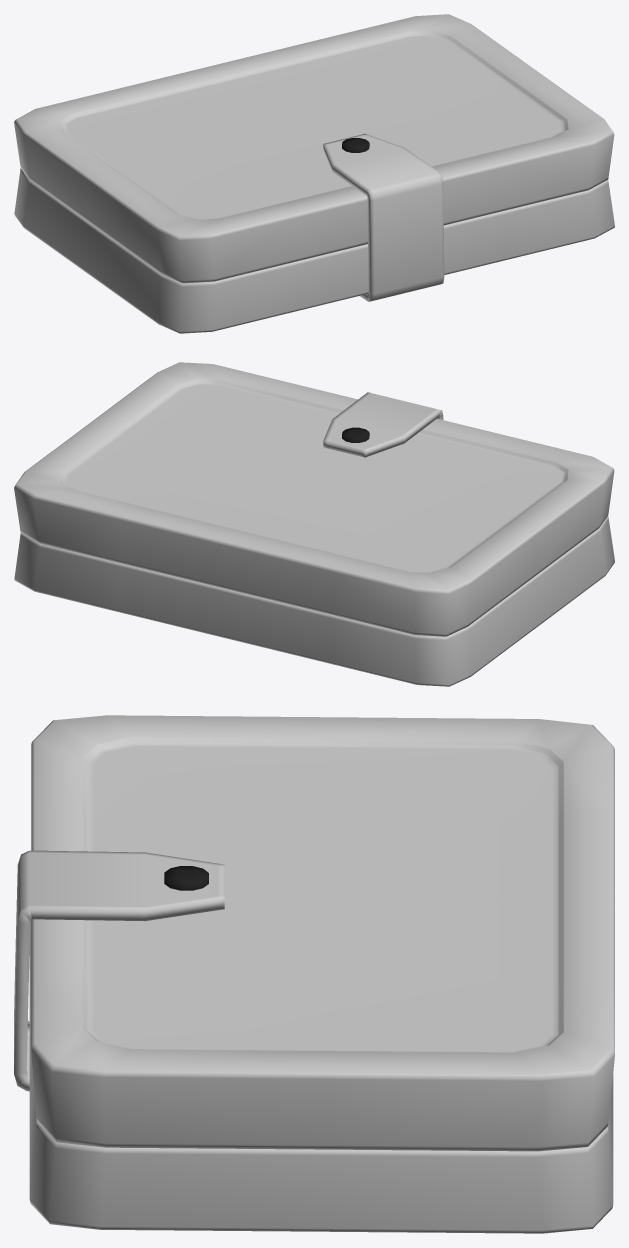
The model's file is Med_Kit_low.fbx.
The picture shows the model from 3 angles, top to bottom: view 1: azimuth 30°, elevation 25°; view 2: azimuth 150°, elevation 25°; view 3: azimuth 270°, elevation 25°; orthographic projection. The views are drawn at different scales.
Parts seen in each view (by area): view 1: Med_Kit_low; view 2: Med_Kit_low; view 3: Med_Kit_low.
Part boxes in pixels (x1,y1,x2,y2): Med_Kit_low: (14, 14, 614, 333); Med_Kit_low: (14, 362, 614, 686); Med_Kit_low: (14, 715, 614, 1233).
Bounding box in the file's own units: 28.52 × 7.13 × 20.22.
